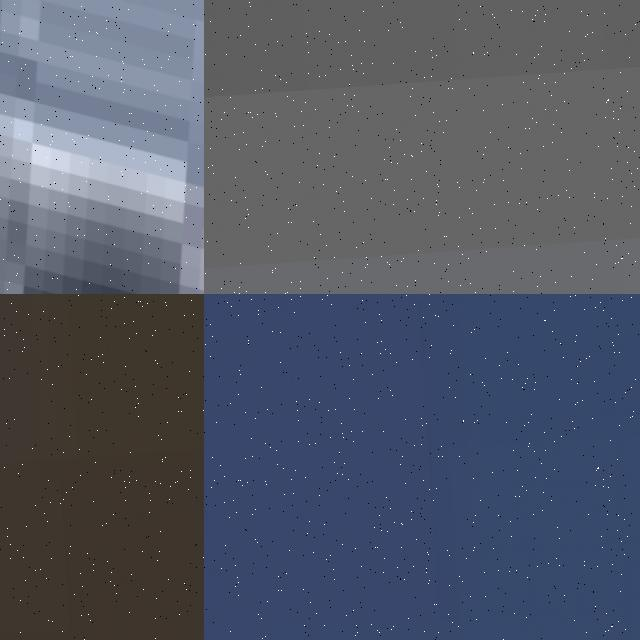drone: (0, 0, 204, 294)
